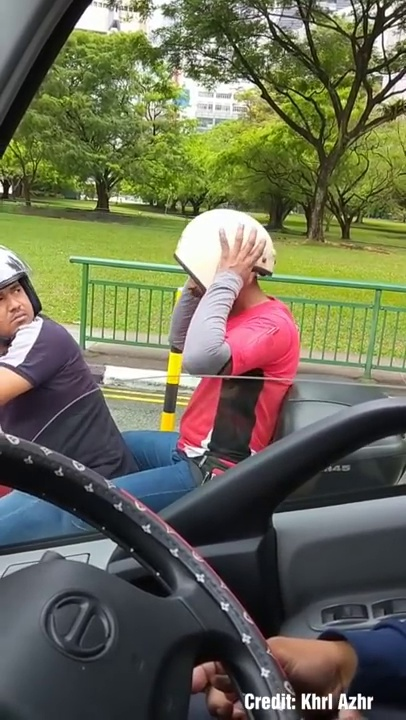helmet: (171, 209, 284, 304), (2, 223, 43, 352)
